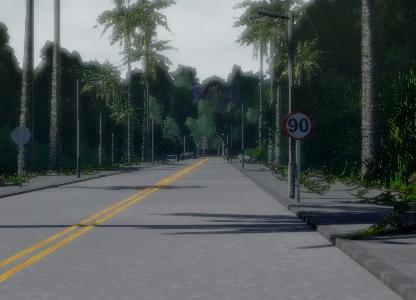Speed_90: (282, 109, 313, 143)
